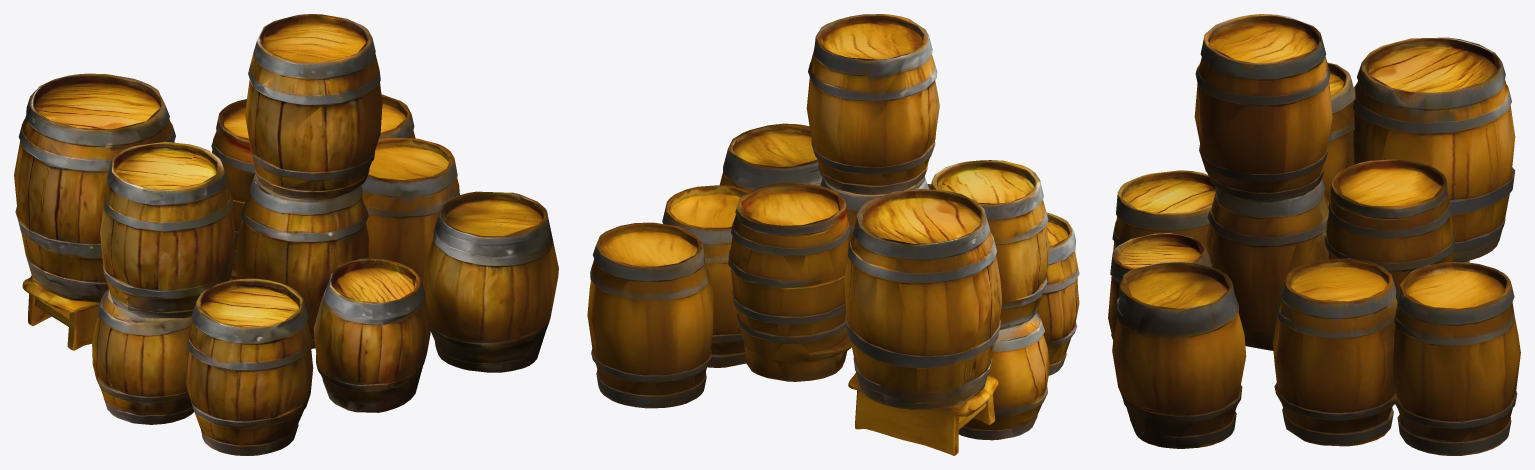
3 views of the same model, side by side, from view 1: azimuth 30°, elevation 25°; view 2: azimuth 150°, elevation 25°; view 3: azimuth 270°, elevation 25° (orthographic). The views are drawn at different scales.
Visible parts, largest first — view 1: model; view 2: model; view 3: model.
Part boxes in pixels (x1,y1,x2,y2): model: (14,14,558,455); model: (587,14,1079,455); model: (1108,14,1520,455).
Bounding box in the file's own units: 1.89 × 1.57 × 1.68.
Materials: 1 (1 with a texture image).
